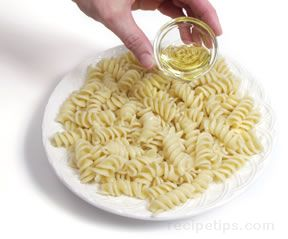plain spaghetti: (61, 57, 245, 188)
